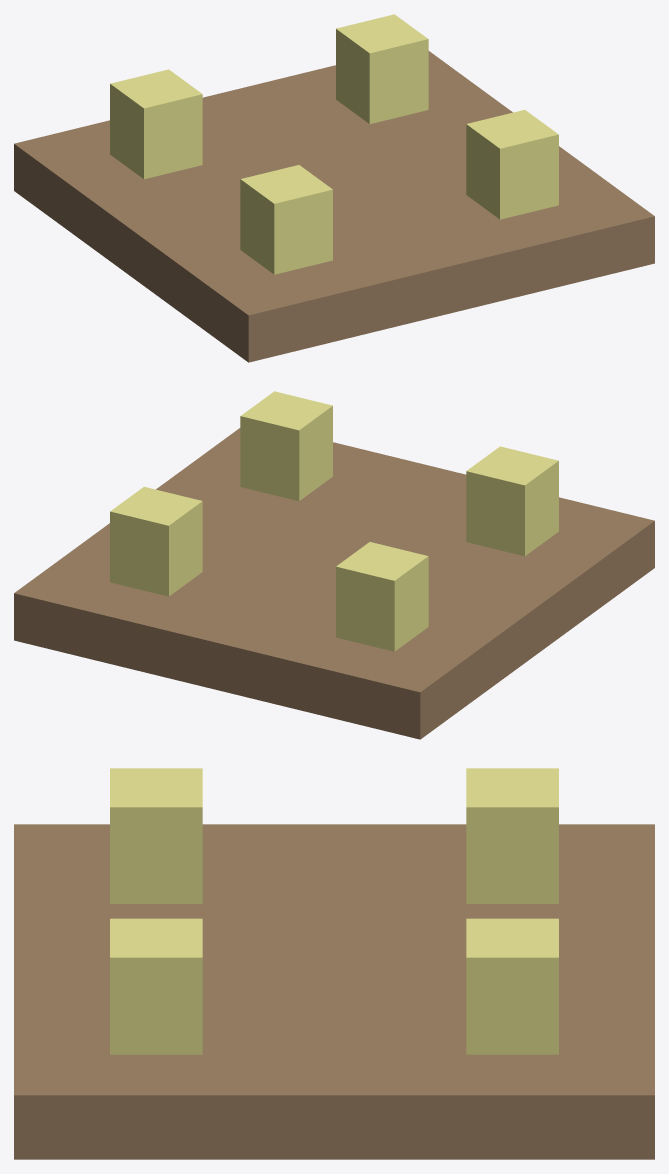
Rendered from Prop_DS_Crop_Groat_S1_V1.glb.
The picture shows the model from 3 angles, top to bottom: view 1: azimuth 30°, elevation 25°; view 2: azimuth 150°, elevation 25°; view 3: azimuth 270°, elevation 25°; orthographic projection. The views are drawn at different scales.
Parts seen in each view (by area): view 1: Prop_DS_Crop_Groat_S1_V1; view 2: Prop_DS_Crop_Groat_S1_V1; view 3: Prop_DS_Crop_Groat_S1_V1.
Boxes of the visible parts, x1=… form: Prop_DS_Crop_Groat_S1_V1: x1=14, y1=14, x2=654, y2=362; Prop_DS_Crop_Groat_S1_V1: x1=14, y1=391, x2=654, y2=739; Prop_DS_Crop_Groat_S1_V1: x1=14, y1=768, x2=654, y2=1159.
Bounding box in the file's own units: 0.9 × 0.25 × 0.9.
